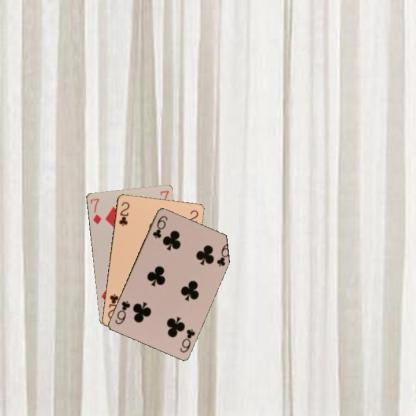2c: (116, 198, 131, 228)
6c: (150, 212, 169, 240), (178, 326, 196, 353)
7d: (88, 196, 102, 226)
